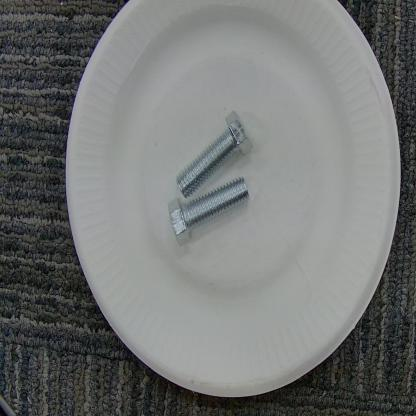FOD: (170, 105, 252, 250)
